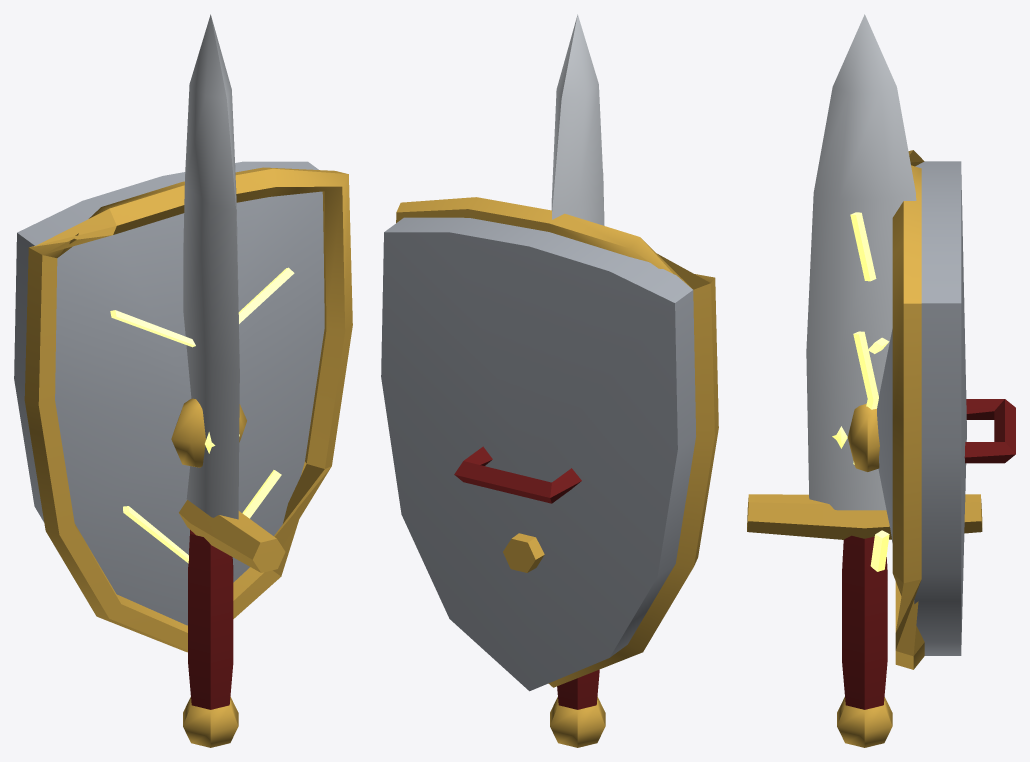
The model's file is aegis-dawn.glb.
The picture shows the model from 3 angles, left to right: view 1: azimuth 30°, elevation 25°; view 2: azimuth 150°, elevation 25°; view 3: azimuth 270°, elevation 25°; orthographic projection.
Visible parts, largest first — view 1: OffHand, aegis-dawn; view 2: OffHand, aegis-dawn; view 3: aegis-dawn, OffHand.
Boxes of the visible parts, box(x1,y1,x2,y2) form: OffHand: box(14, 161, 352, 652); aegis-dawn: box(179, 14, 285, 747); OffHand: box(381, 197, 718, 691); aegis-dawn: box(503, 14, 605, 747); aegis-dawn: box(747, 14, 982, 747); OffHand: box(832, 150, 1015, 669).
Bounding box in the file's own units: 0.2555 × 0.553 × 0.184.
